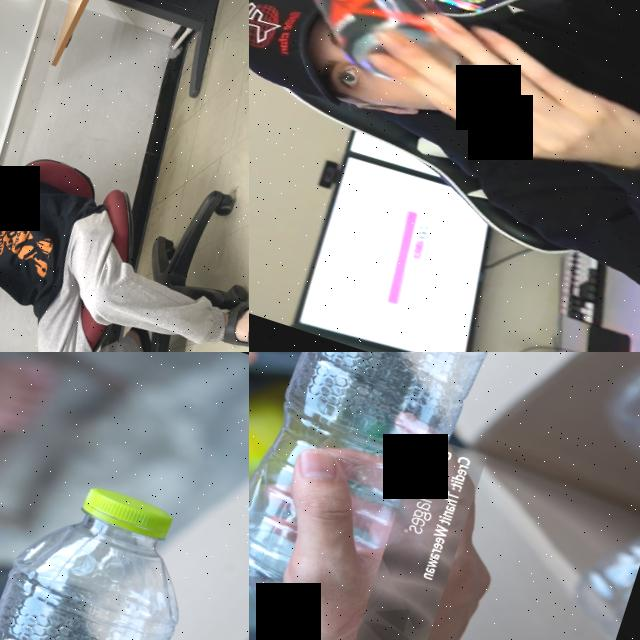bottle: (249, 352, 528, 640), (0, 459, 215, 640)
can: (249, 0, 497, 101)
